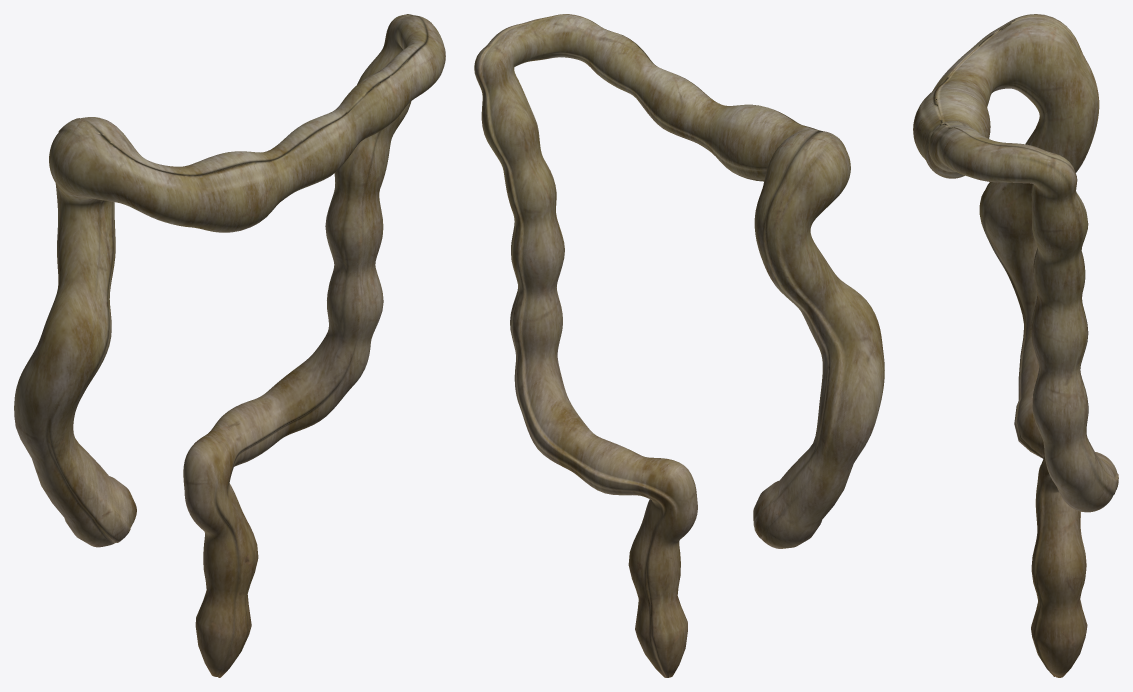
The model's file is Colon.fbx.
3 views of the same model, side by side, from view 1: azimuth 30°, elevation 25°; view 2: azimuth 150°, elevation 25°; view 3: azimuth 270°, elevation 25° (orthographic). The views are drawn at different scales.
Visible parts, largest first — view 1: Colon; view 2: Colon; view 3: Colon.
Part boxes in pixels (left/top/right/bottom): Colon: left=14, top=14, right=445, bottom=677; Colon: left=474, top=14, right=884, bottom=677; Colon: left=913, top=14, right=1118, bottom=677.
Size of the model in its own units: 307 by 445 by 134.
